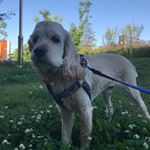puppy: (24, 19, 150, 148)
